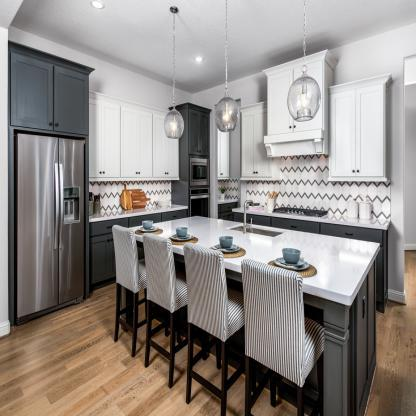chair: (242, 256, 321, 416), (186, 244, 243, 409), (143, 233, 185, 380), (103, 227, 145, 361)
light: (283, 3, 324, 127), (213, 0, 240, 140), (161, 0, 187, 139), (88, 0, 106, 16), (194, 52, 202, 65)
table: (120, 212, 397, 416)
